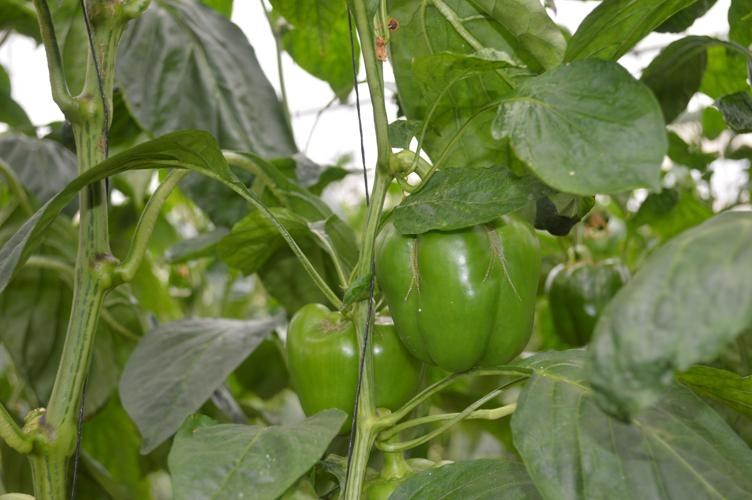BellPepper: (374, 216, 540, 371), (291, 303, 419, 423), (543, 257, 632, 347)
